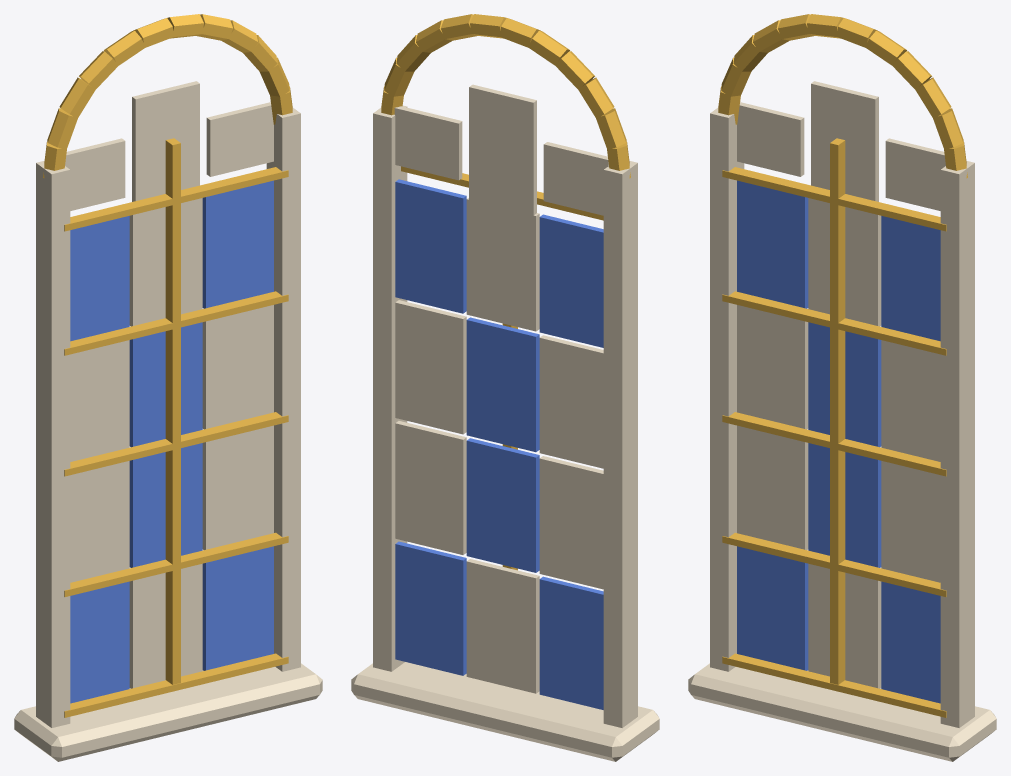
3 renders of one model, left to right at view 1: azimuth 30°, elevation 25°; view 2: azimuth 150°, elevation 25°; view 3: azimuth 330°, elevation 25°, orthographic.
Visible parts, largest first — view 1: Arched window side, Arched window side.001, Panel base, Window mullion, Colored glass tile.011, Colored glass tile.008, Colored glass tile.009, Colored glass tile.010, Arch infill.001, Colored glass tile.003, Colored glass tile.002, Colored glass tile (+23 smaller); view 2: Arched window side, Panel base, Arched window side.001, Colored glass tile.004, Colored glass tile.005, Colored glass tile.006, Colored glass tile.007, Colored glass tile.011, Colored glass tile.008, Colored glass tile.010, Colored glass tile.009, Arch infill.001 (+18 smaller); view 3: Arched window side.001, Arched window side, Panel base, Window mullion, Colored glass tile.003, Colored glass tile, Colored glass tile.001, Colored glass tile.002, Arch infill.001, Colored glass tile.011, Colored glass tile.010, Colored glass tile.008 (+23 smaller).
Part boxes in pixels (bbox=[...]): Arched window side: bbox=[36, 160, 70, 727]; Arched window side.001: bbox=[266, 107, 300, 671]; Panel base: bbox=[14, 663, 322, 761]; Window mullion: bbox=[165, 138, 180, 684]; Colored glass tile.011: bbox=[202, 180, 273, 308]; Colored glass tile.008: bbox=[202, 546, 273, 670]; Colored glass tile.009: bbox=[202, 425, 273, 549]; Colored glass tile.010: bbox=[202, 305, 273, 429]; Arch infill.001: bbox=[132, 81, 199, 233]; Colored glass tile.003: bbox=[70, 216, 129, 341]; Colored glass tile.002: bbox=[70, 340, 129, 461]; Colored glass tile: bbox=[70, 581, 129, 703]; Arched window side: bbox=[603, 160, 637, 727]; Panel base: bbox=[351, 662, 659, 761]; Arched window side.001: bbox=[373, 105, 407, 671]; Colored glass tile.004: bbox=[466, 559, 539, 693]; Colored glass tile.005: bbox=[466, 438, 539, 572]; Colored glass tile.006: bbox=[466, 317, 539, 452]; Colored glass tile.007: bbox=[466, 198, 539, 331]; Colored glass tile.011: bbox=[395, 179, 466, 313]; Colored glass tile.008: bbox=[395, 541, 466, 675]; Colored glass tile.010: bbox=[395, 300, 466, 434]; Colored glass tile.009: bbox=[395, 421, 466, 554]; Arch infill.001: bbox=[469, 84, 536, 227]; Arched window side.001: bbox=[940, 160, 974, 727]; Arched window side: bbox=[710, 107, 744, 671]; Panel base: bbox=[688, 663, 996, 761]; Window mullion: bbox=[830, 138, 845, 684]; Colored glass tile.003: bbox=[737, 180, 808, 308]; Colored glass tile: bbox=[737, 546, 808, 670]; Colored glass tile.001: bbox=[737, 425, 808, 549]; Colored glass tile.002: bbox=[737, 305, 808, 429]; Arch infill.001: bbox=[811, 81, 878, 233]; Colored glass tile.011: bbox=[881, 216, 940, 341]; Colored glass tile.010: bbox=[881, 340, 940, 461]; Colored glass tile.008: bbox=[881, 581, 940, 703].
Bounding box in the file's own units: 80 × 197 × 23.
